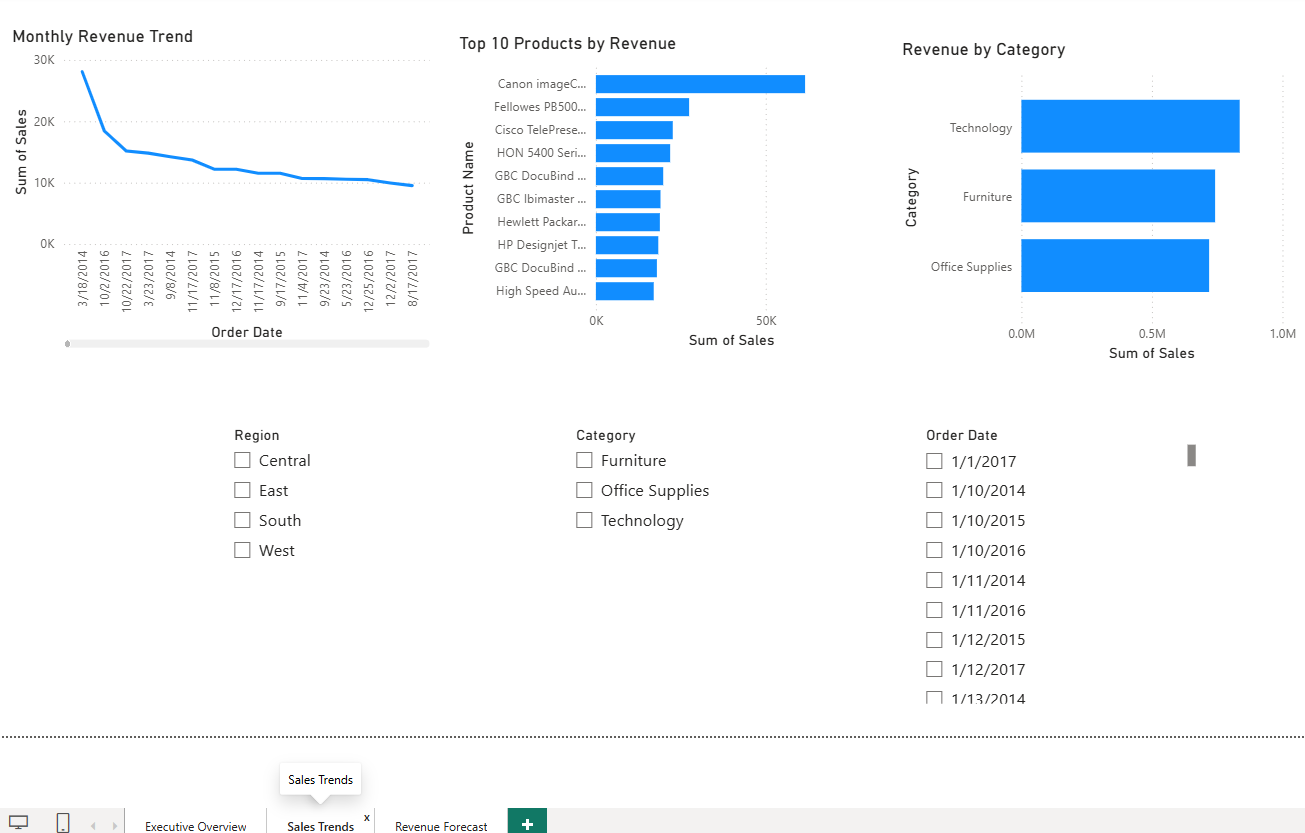

This screenshot's page, from the dashboard's own definition file:
{"tool":"powerbi","page":{"name":"Sales Trends","canvas":[1280,720],"ordinal":1},"visuals":[{"type":"lineChart","title":"Monthly Revenue Trend","fields":{"Category":["Sample - Superstore.Order Date"],"Y":["Sum(Sample - Superstore.Sales)"]},"box":[9.7,29.2,416.3,318.1],"z":0},{"type":"clusteredBarChart","title":"Top 10 Products by Revenue","fields":{"Category":["Sample - Superstore.Product Name"],"Y":["Sum(Sample - Superstore.Sales)"]},"box":[444.5,36,417.3,311.2],"z":1000},{"type":"clusteredBarChart","title":" Revenue by Category","fields":{"Category":["Sample - Superstore.Category"],"Y":["Sum(Sample - Superstore.Sales)"]},"box":[875.4,41.8,393.9,318.1],"z":2000},{"type":"slicer","fields":{"Values":["Sample - Superstore.Region"]},"box":[217.9,413.4,280.1,280.1],"z":3000},{"type":"slicer","fields":{"Values":["Sample - Superstore.Category"]},"box":[550.5,413.4,280.1,280.1],"z":4000},{"type":"slicer","fields":{"Values":["Sample - Superstore.Order Date"]},"box":[890.9,413.4,280.1,280.1],"z":5000}]}

Visuals, with their boxes on the page's 1280x720 design canvas (x1, y1, x2, y2). These are canvas units, not pixel positions in the 1305x833 screenshot, which may show the page scaled, cropped or inside an application window:
"Monthly Revenue Trend" lineChart: l=10, t=29, r=426, b=347
"Top 10 Products by Revenue" clusteredBarChart: l=444, t=36, r=862, b=347
" Revenue by Category" clusteredBarChart: l=875, t=42, r=1269, b=360
slicer - Sample - Superstore.Region: l=218, t=413, r=498, b=694
slicer - Sample - Superstore.Category: l=550, t=413, r=831, b=694
slicer - Sample - Superstore.Order Date: l=891, t=413, r=1171, b=694
